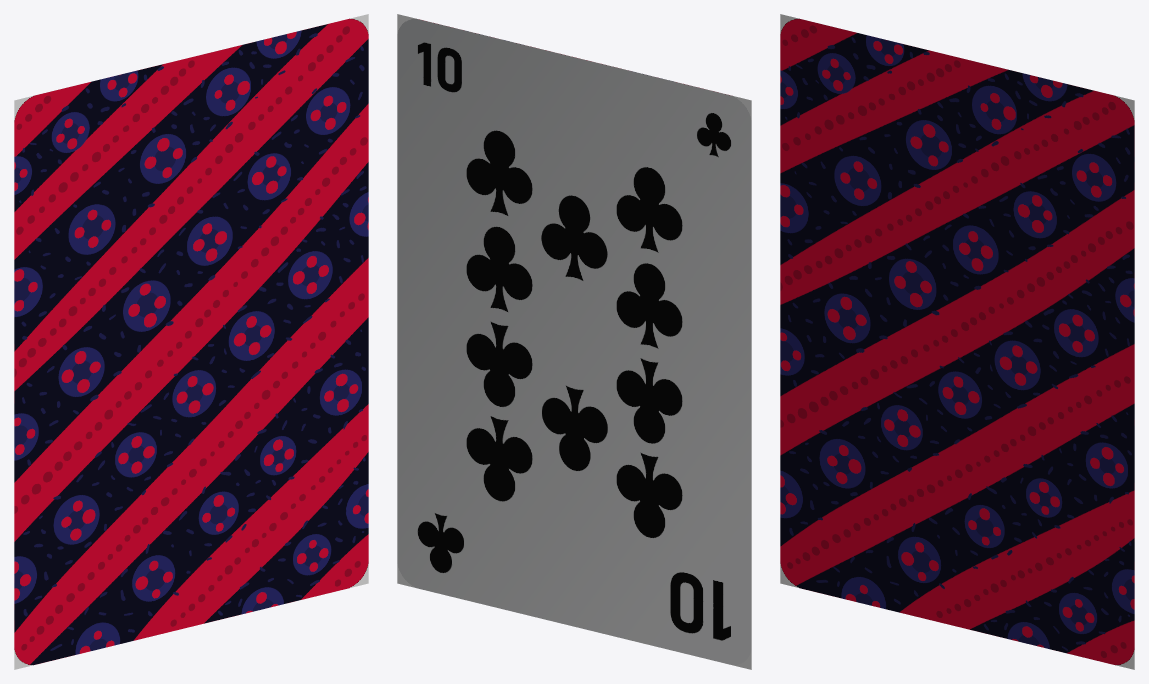
Rendered from 10 Club.fbx.
3 views of the same model, side by side, from view 1: azimuth 30°, elevation 25°; view 2: azimuth 150°, elevation 25°; view 3: azimuth 330°, elevation 25° (orthographic).
Visible parts, largest first — view 1: pPlane1; view 2: pPlane2; view 3: pPlane1.
Part boxes in pixels (bbox=[...]): pPlane1: bbox=[14, 14, 368, 669]; pPlane2: bbox=[397, 14, 751, 669]; pPlane1: bbox=[780, 14, 1134, 669].
Bounding box in the file's own units: 2.15 × 3.3 × 0.001.
2 materials, 2 textured.
